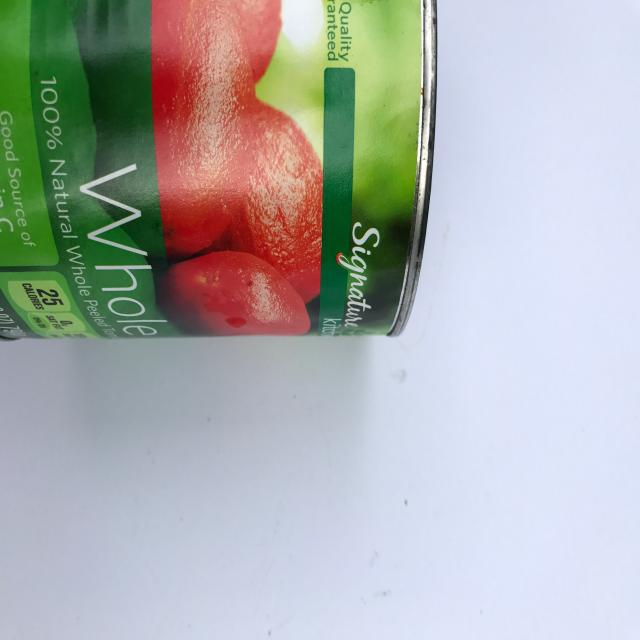Metal: (0, 3, 455, 374)
